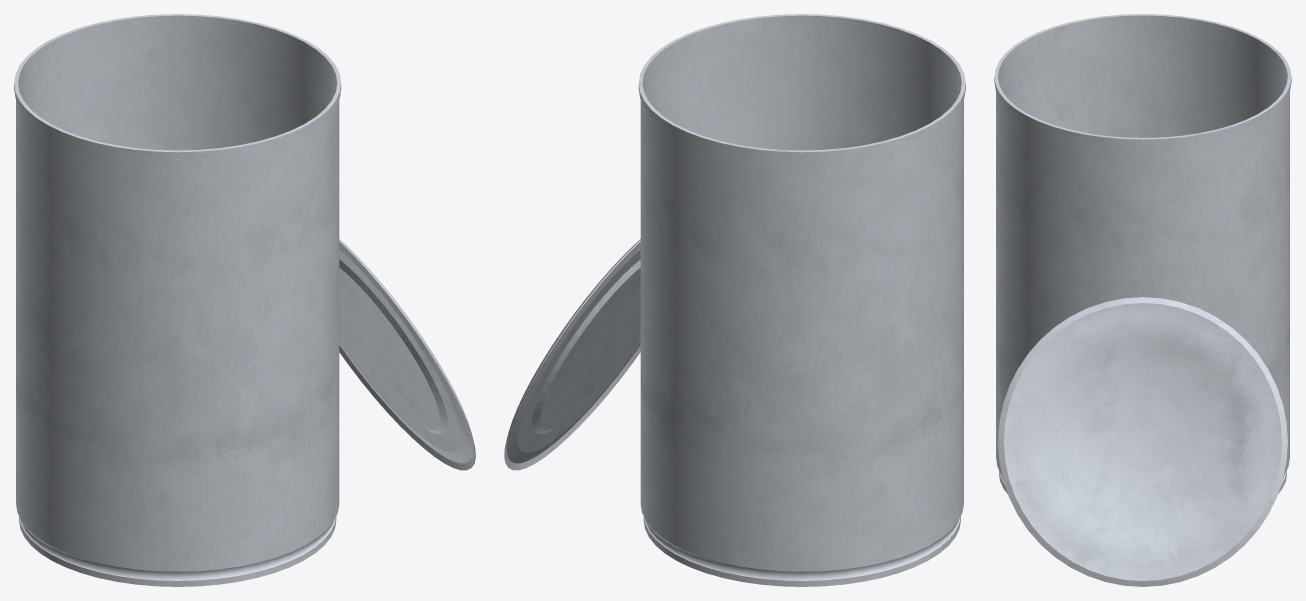
Rendered from tin_can_4_open_1k.glb.
3 renders of one model, left to right at view 1: azimuth 30°, elevation 25°; view 2: azimuth 150°, elevation 25°; view 3: azimuth 270°, elevation 25°, orthographic. The views are drawn at different scales.
Parts seen in each view (by area): view 1: TinCan4Open, TinCan4Top; view 2: TinCan4Open, TinCan4Top; view 3: TinCan4Open, TinCan4Top.
Part boxes in pixels (x1,y1,x2,y2): TinCan4Open: (14, 14, 341, 586); TinCan4Top: (339, 239, 475, 470); TinCan4Open: (638, 14, 965, 586); TinCan4Top: (504, 239, 640, 470); TinCan4Open: (994, 14, 1291, 493); TinCan4Top: (998, 297, 1287, 586).
Size of the model in its own units: 0.1042 by 0.109 by 0.0739.
Materials: 2 (2 with a texture image).
